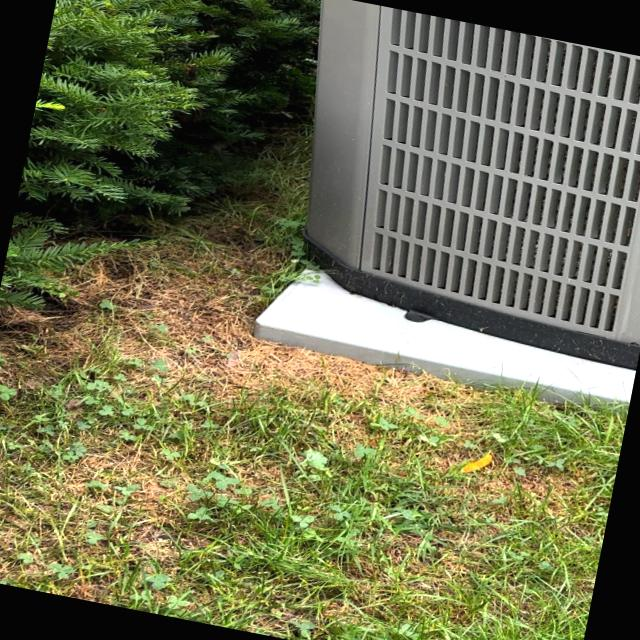SPLIT-SYSTEM: (212, 0, 640, 377)
